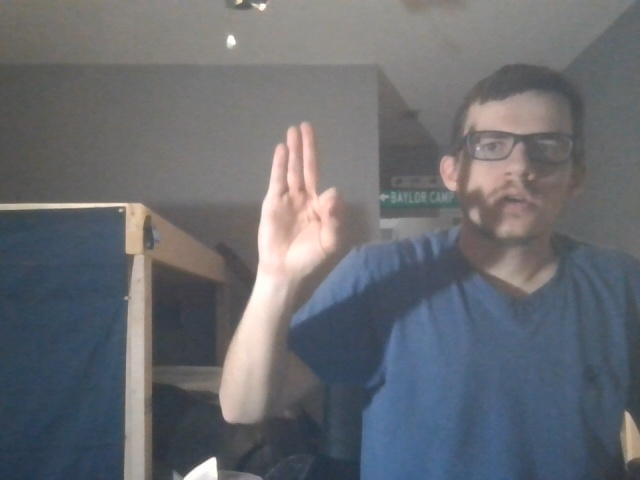F: (246, 118, 349, 287)
